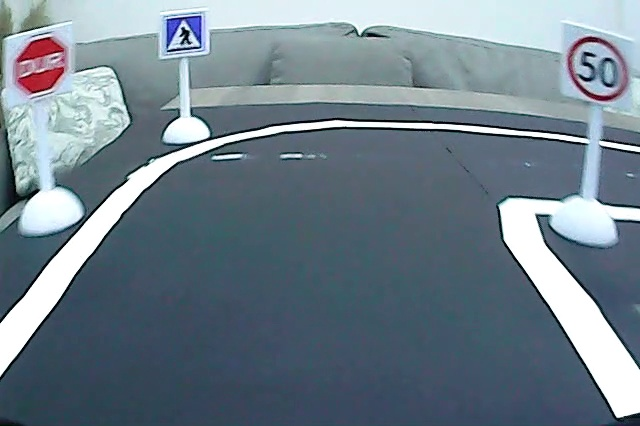pedestrian crossing: (162, 12, 206, 56)
speed limit 50: (565, 30, 631, 107)
stop sign: (10, 33, 70, 99)
